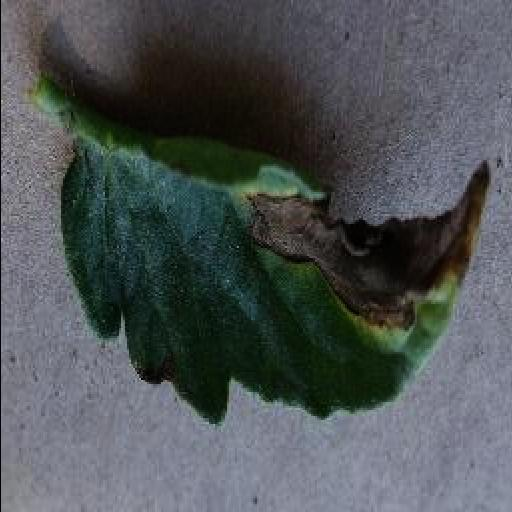disease_tomato: (68, 115, 498, 423)
